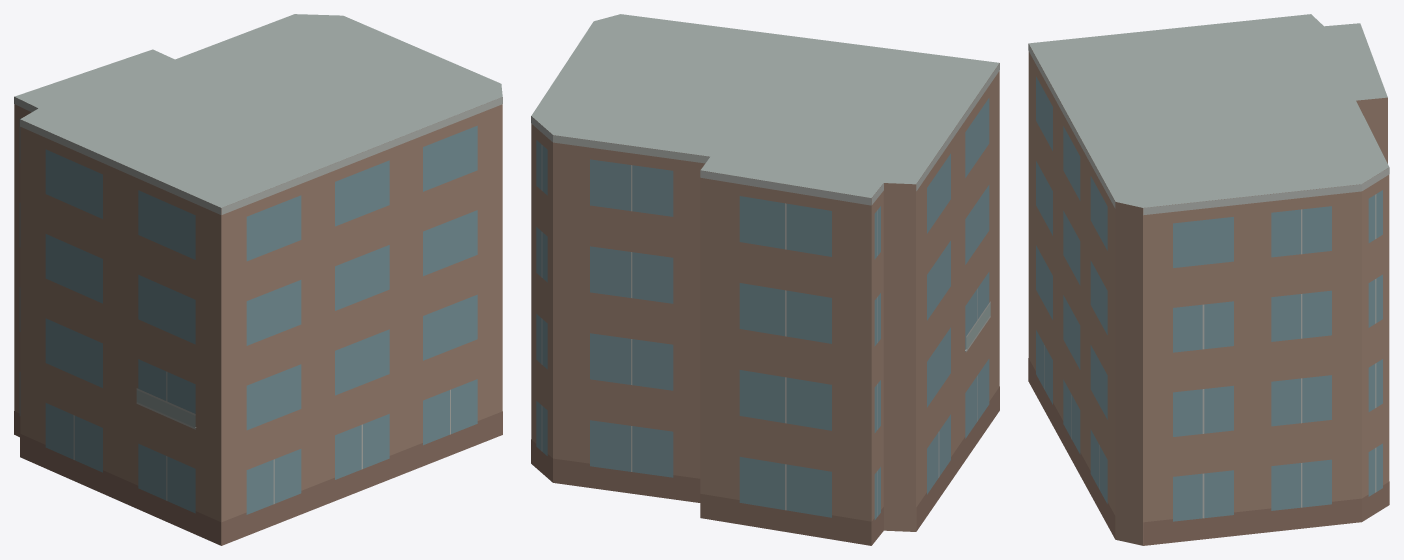
The model's file is survey-upis-32903693.glb.
3 views of the same model, side by side, from view 1: azimuth 30°, elevation 25°; view 2: azimuth 150°, elevation 25°; view 3: azimuth 270°, elevation 25° (orthographic). The views are drawn at different scales.
Visible parts, largest first — view 1: survey-upis-32903693.tmp; view 2: survey-upis-32903693.tmp; view 3: survey-upis-32903693.tmp.
Boxes of the visible parts, x1=… form: survey-upis-32903693.tmp: x1=14, y1=14, x2=502, y2=545; survey-upis-32903693.tmp: x1=531, y1=14, x2=999, y2=545; survey-upis-32903693.tmp: x1=1028, y1=14, x2=1389, y2=545.
Size of the model in its own units: 13.92 by 11.3 by 10.95.
